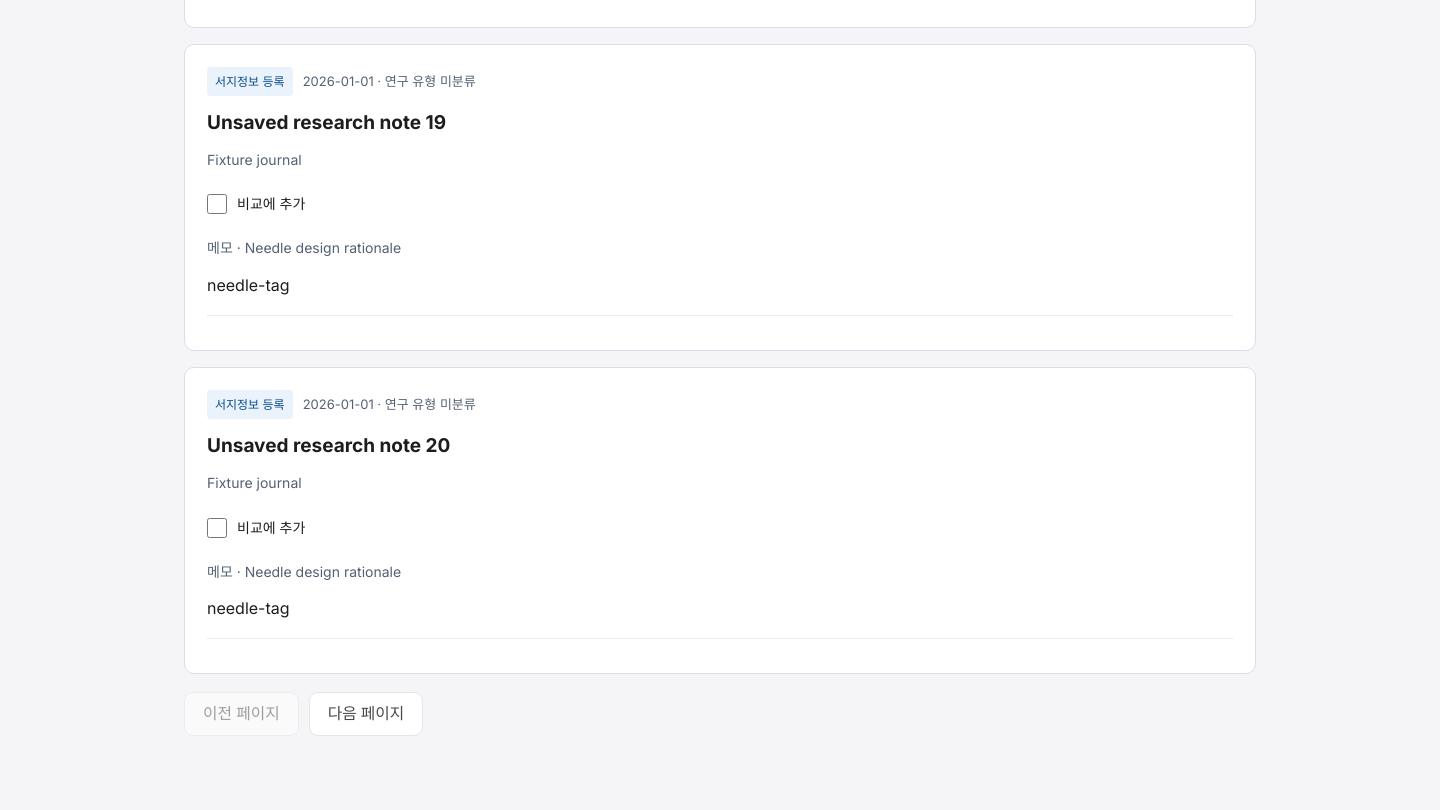
it: uses the server total for paging and preserves the memo query on the last page
(page scrolled)
Check: the link "Unsaved research note 20" is shown, box [207,434,450,457]
Click the button "다음 페이지" at (366, 714), box [309,692,423,736]
(page scrolled)
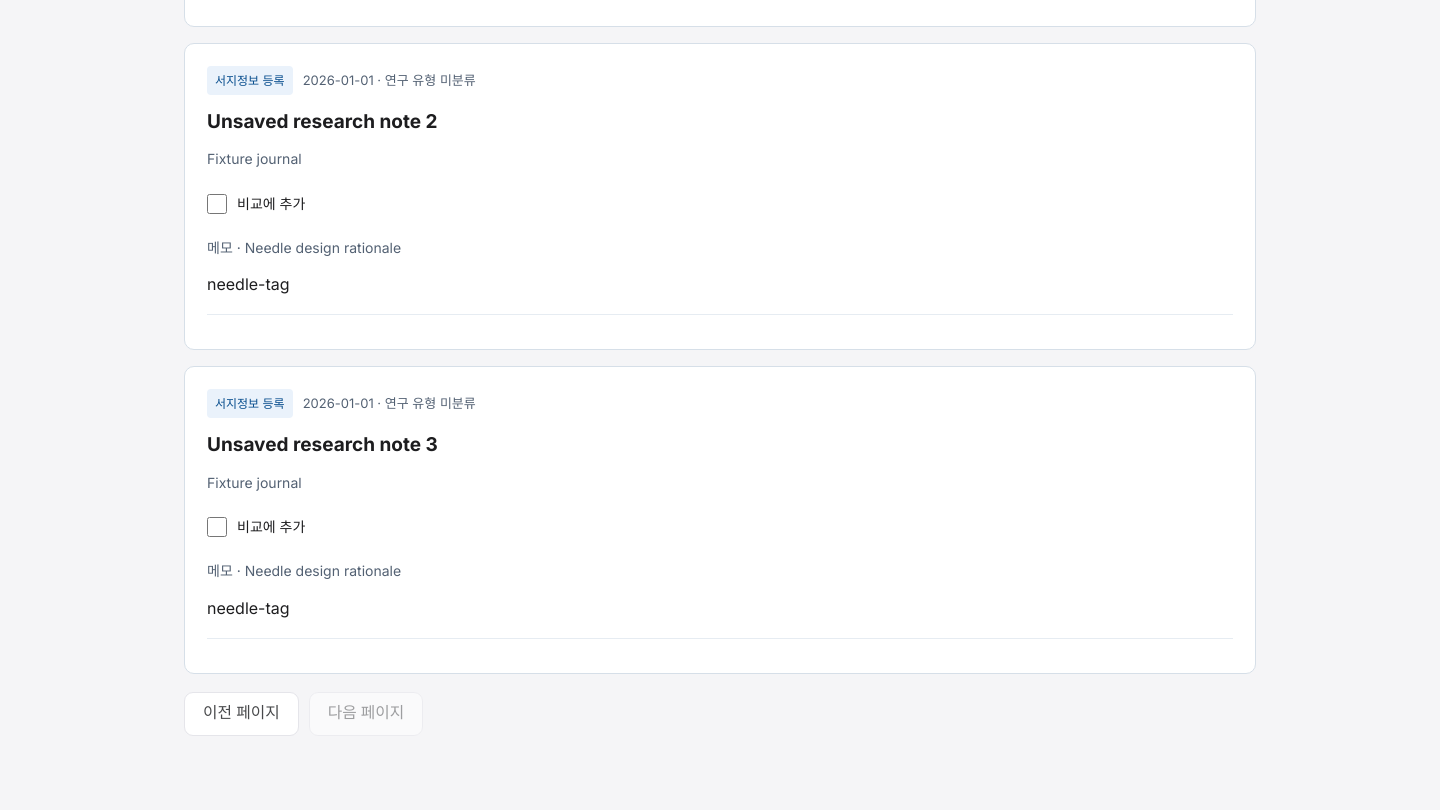
Check: the link "Unsaved research note 3" is shown, box [207,433,438,456]
Check: the button "다음 페이지" is disabled, box [309,692,423,736]
Check: the link "Unsaved research note 20" is gone
